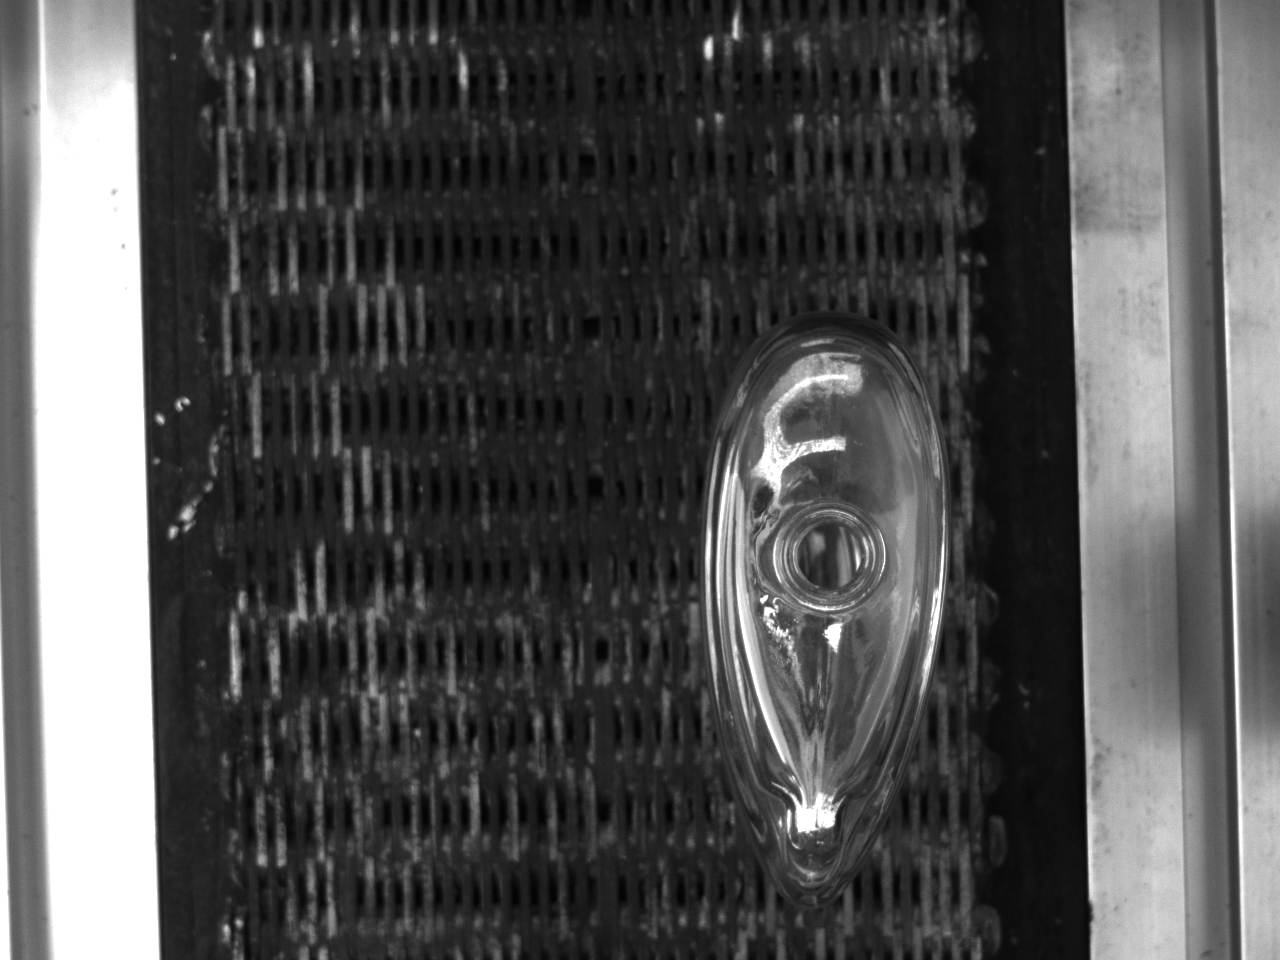bottleneck: (775, 500, 886, 611)
